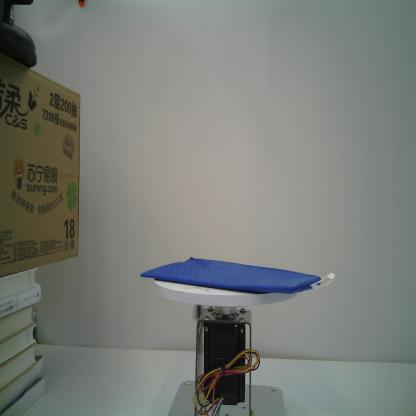Stationery: (140, 256, 322, 297)
